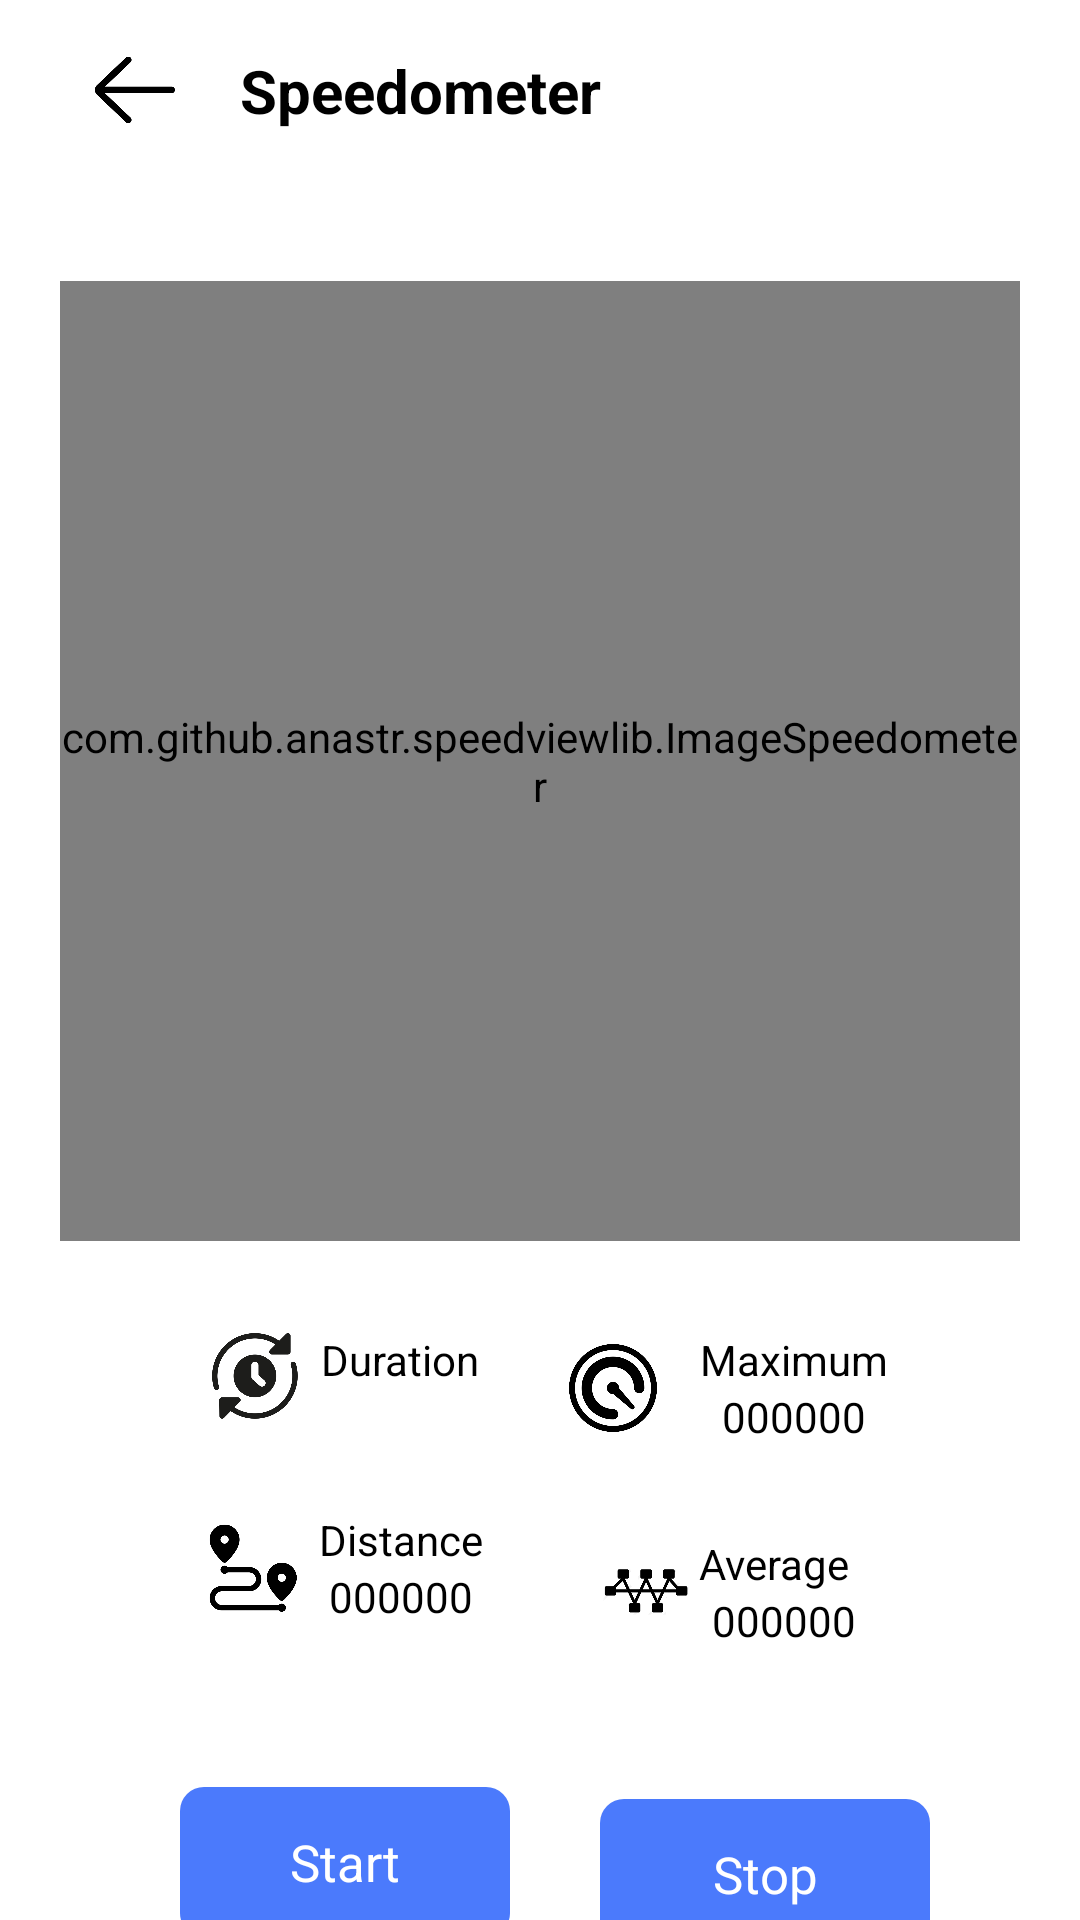

Locate icon controls on the screen. Image size 1080px×1920px, boxes as BBox(x1, y1, x2, y2).
back arrow: BBox(95, 57, 175, 123)
